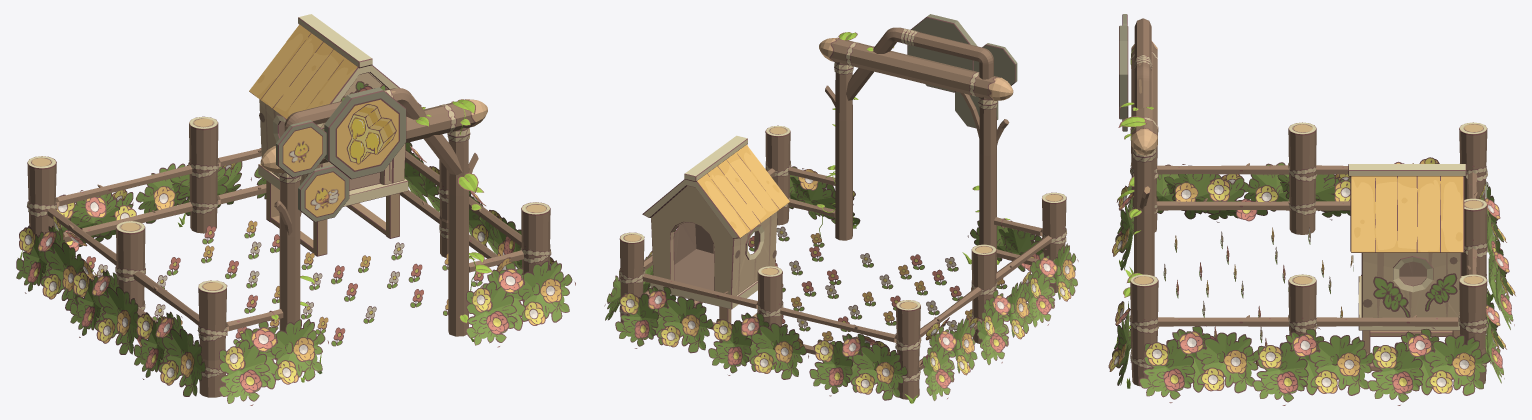
The model's file is Mesh_Home_RF_Ranch_Bee_SM.fbx.
3 renders of one model, left to right at view 1: azimuth 30°, elevation 25°; view 2: azimuth 150°, elevation 25°; view 3: azimuth 270°, elevation 25°, orthographic. The views are drawn at different scales.
Parts seen in each view (by area): view 1: Mesh_Home_RF_Ranch_Bee, Mesh_Home_RF_Ranch_Bee_02; view 2: Mesh_Home_RF_Ranch_Bee, Mesh_Home_RF_Ranch_Bee_02; view 3: Mesh_Home_RF_Ranch_Bee, Mesh_Home_RF_Ranch_Bee_02.
Part boxes in pixels (bbox=[...]): Mesh_Home_RF_Ranch_Bee: bbox=[18, 14, 551, 397]; Mesh_Home_RF_Ranch_Bee_02: bbox=[16, 81, 575, 405]; Mesh_Home_RF_Ranch_Bee: bbox=[619, 14, 1066, 403]; Mesh_Home_RF_Ranch_Bee_02: bbox=[604, 166, 1078, 400]; Mesh_Home_RF_Ranch_Bee: bbox=[1116, 14, 1493, 388]; Mesh_Home_RF_Ranch_Bee_02: bbox=[1108, 157, 1515, 405].
Bounding box in the file's own units: 259 × 178 × 238.
Materials: 1 (1 with a texture image).
